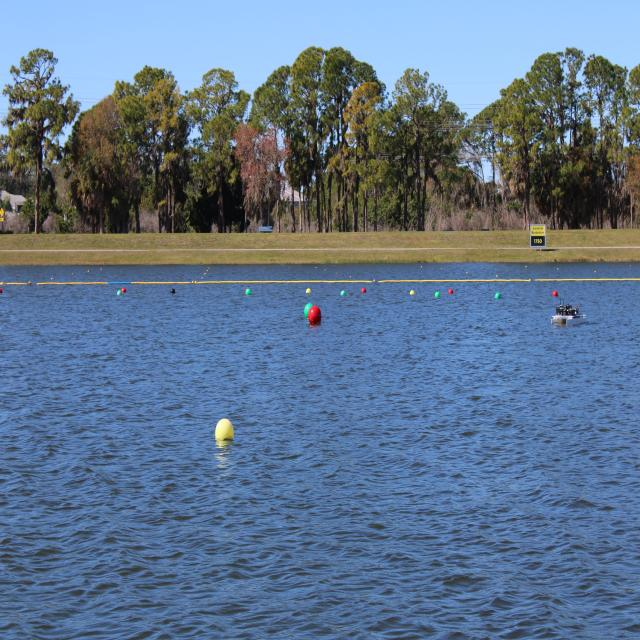green-buoy: (303, 300, 311, 318), (434, 290, 440, 298)
red-buoy: (307, 304, 320, 324), (553, 290, 560, 297), (120, 286, 126, 294), (361, 286, 366, 294), (450, 288, 454, 295)
yellow-buoy: (215, 418, 233, 442), (410, 290, 417, 296), (307, 288, 312, 294)
